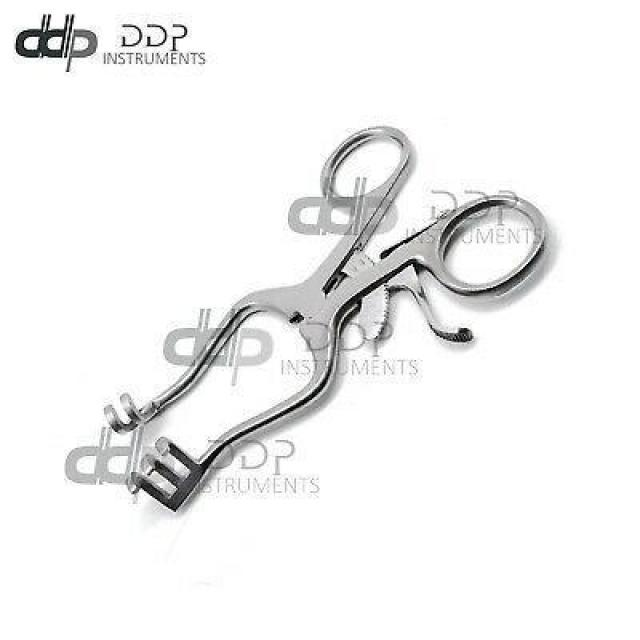Weitlaner: (102, 120, 556, 520)
